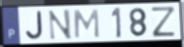1: (110, 7, 123, 40)
8: (128, 8, 149, 38)
J: (24, 10, 45, 41)
M: (73, 8, 101, 40)
N: (47, 9, 74, 42)
Z: (150, 5, 177, 38)
